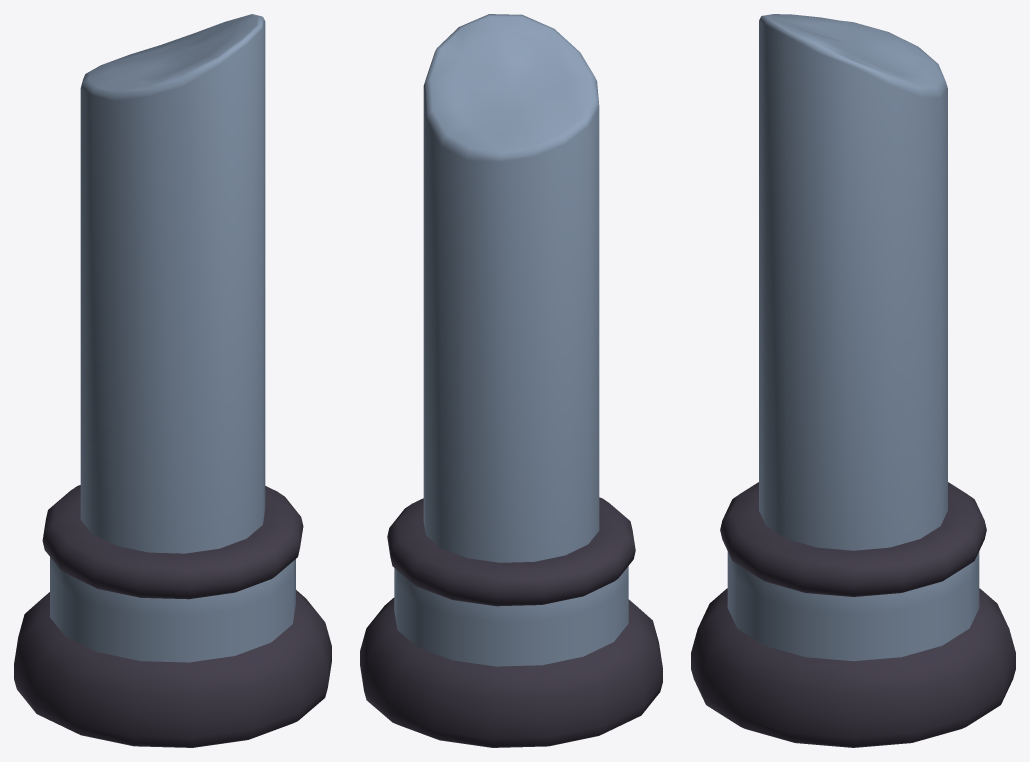
File: column-2.dae
The picture shows the model from 3 angles, left to right: view 1: azimuth 30°, elevation 25°; view 2: azimuth 150°, elevation 25°; view 3: azimuth 270°, elevation 25°; orthographic projection. The views are drawn at different scales.
Parts seen in each view (by area): view 1: Cylinder, Cylinder.002, Cylinder.001, Cylinder.003; view 2: Cylinder, Cylinder.002, Cylinder.001, Cylinder.003; view 3: Cylinder, Cylinder.002, Cylinder.001, Cylinder.003.
Part boxes in pixels (x1,y1,x2,y2): Cylinder: (80,14,265,553); Cylinder.002: (14,590,331,747); Cylinder.001: (50,557,295,662); Cylinder.003: (42,485,303,599); Cylinder: (423,14,599,562); Cylinder.002: (360,597,662,747); Cylinder.001: (394,566,628,666); Cylinder.003: (387,497,635,606); Cylinder: (759,14,947,550); Cylinder.002: (691,588,1015,747); Cylinder.001: (727,551,979,661); Cylinder.003: (720,482,986,596).
Size of the model in its own units: 1.03 by 1.03 by 2.38.
